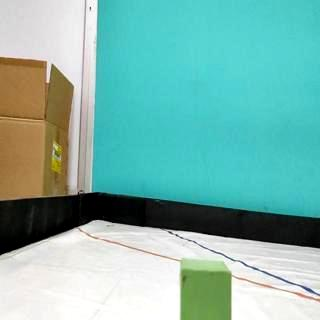greenbox: (178, 258, 232, 320)
